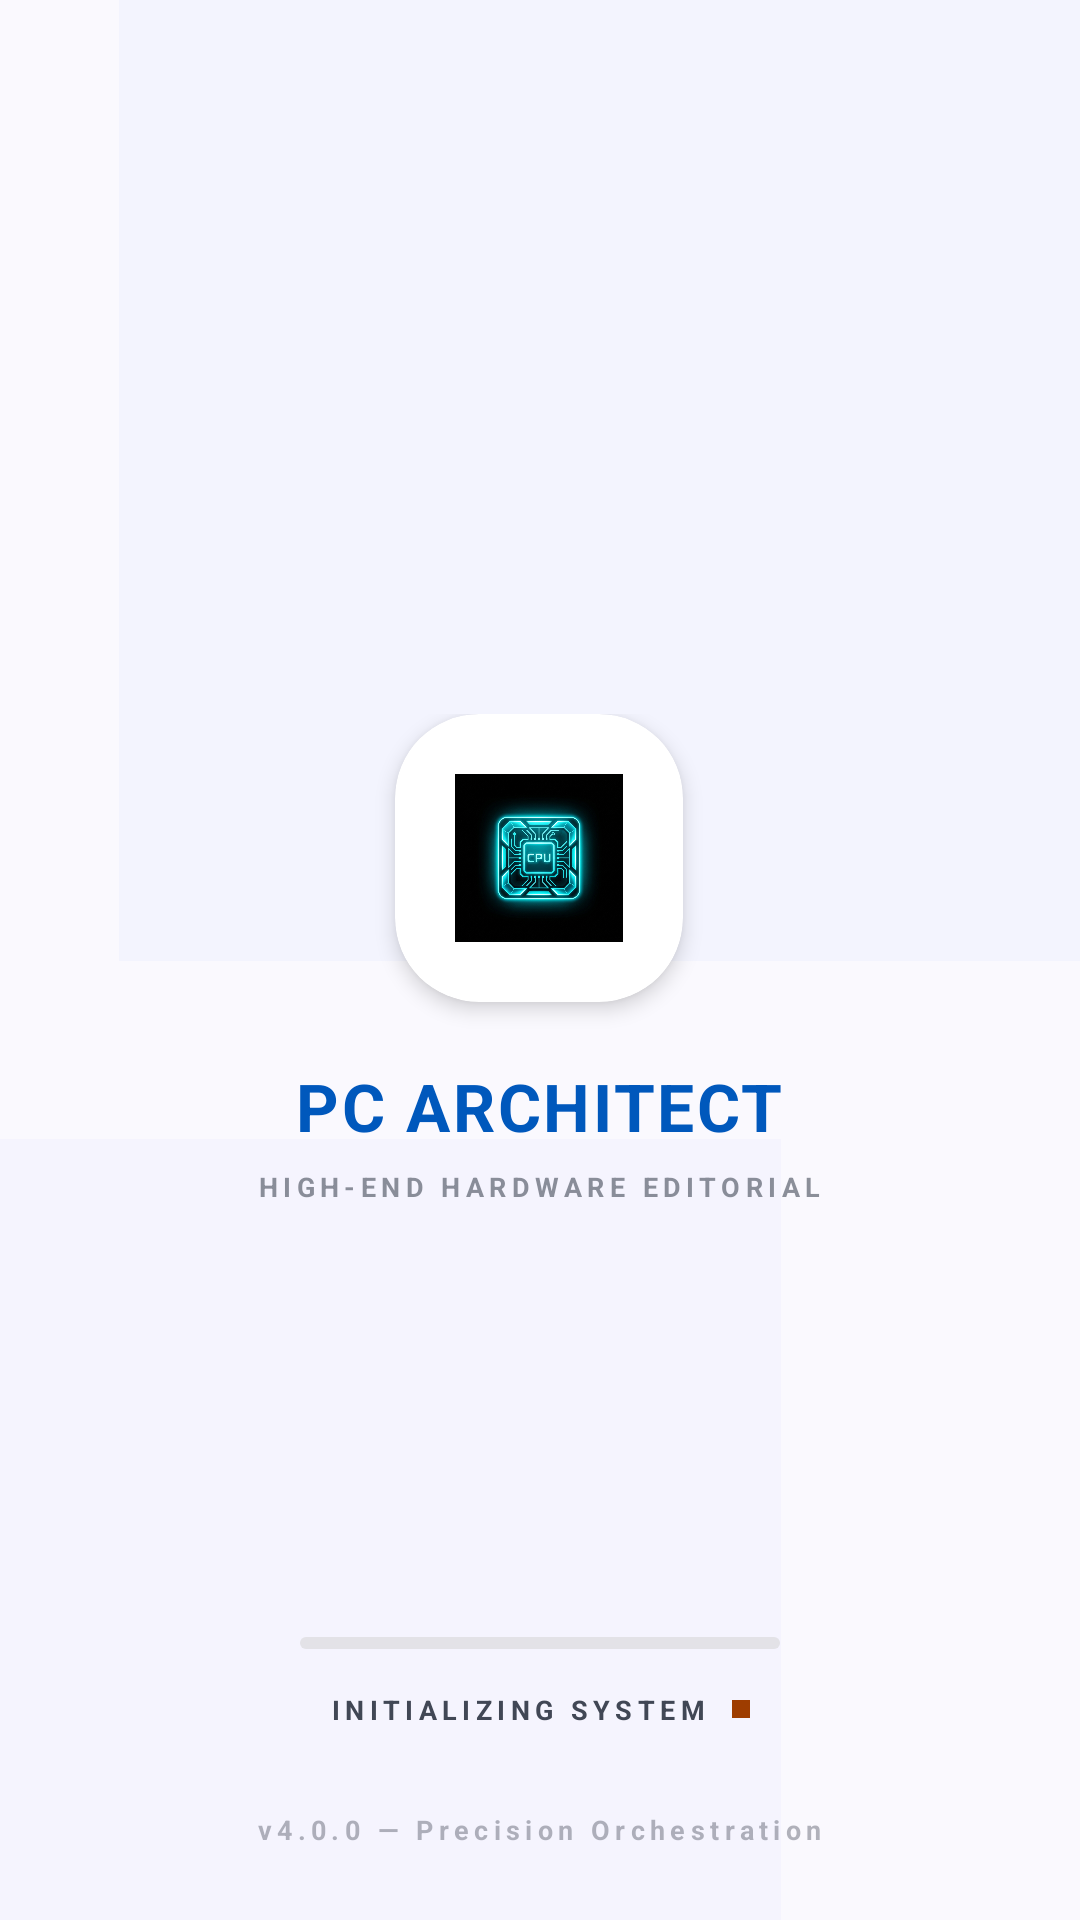

Named icons in this screenshot (1080w x 1920h) and their centers, (x=x, y=y):
pc builder: (x=539, y=858)
